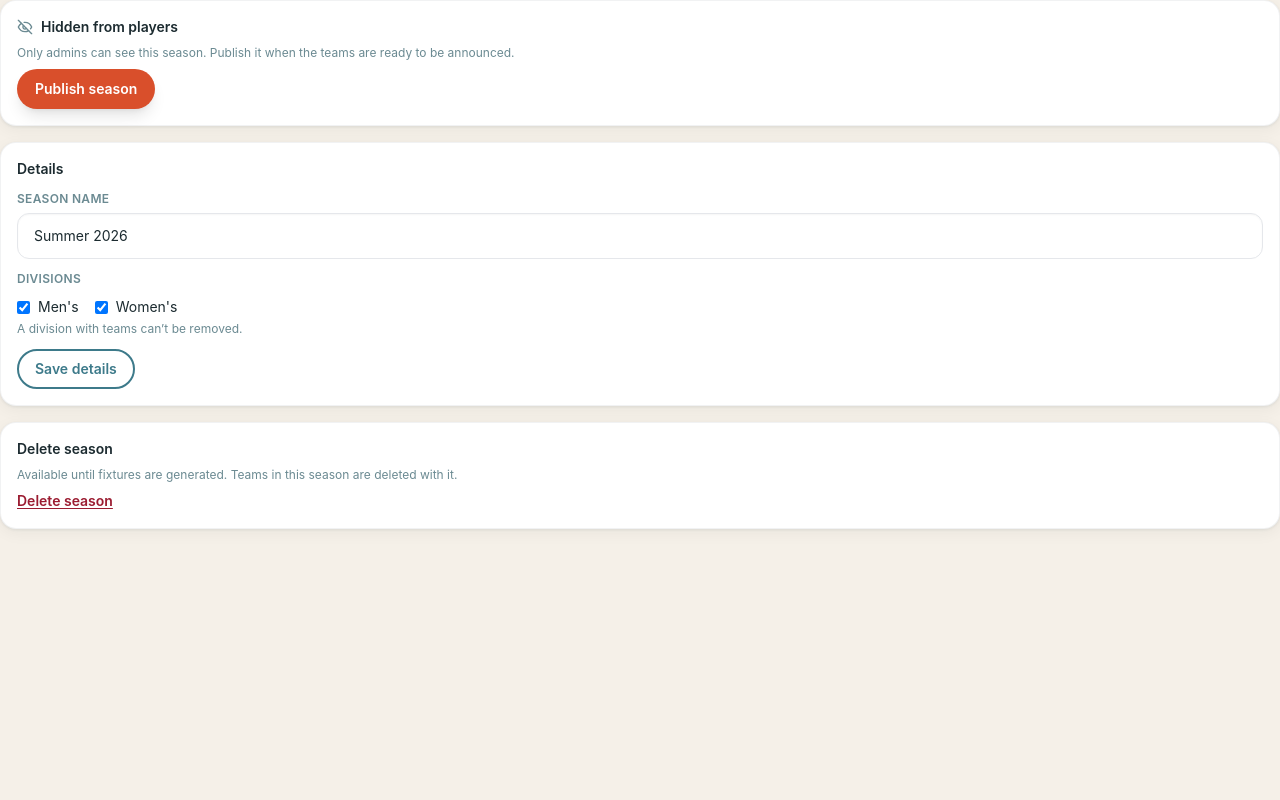
ManageSeason details › shows a server error inline
Click the button "Save details" at (76, 369), box [17,349,135,389]
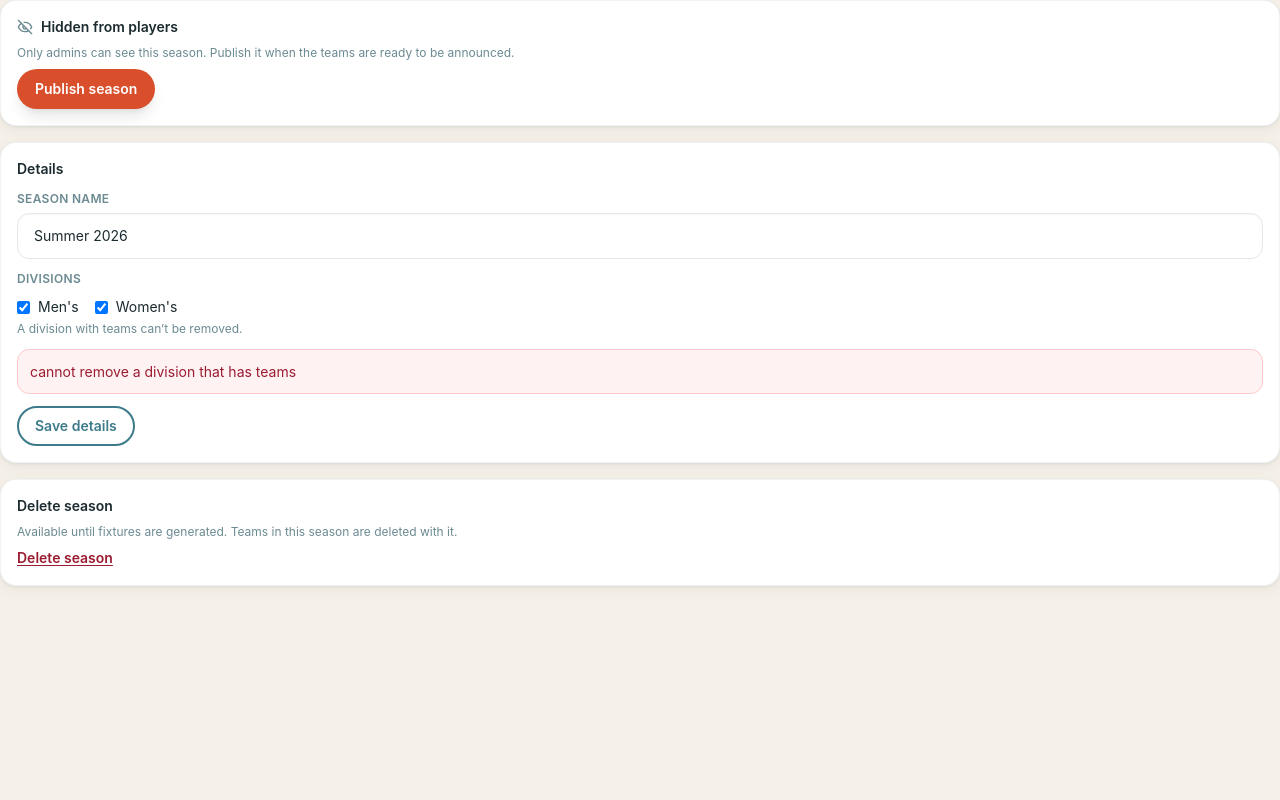
Expected: the text "cannot remove a division that has teams" is shown, [30,363,296,380]
